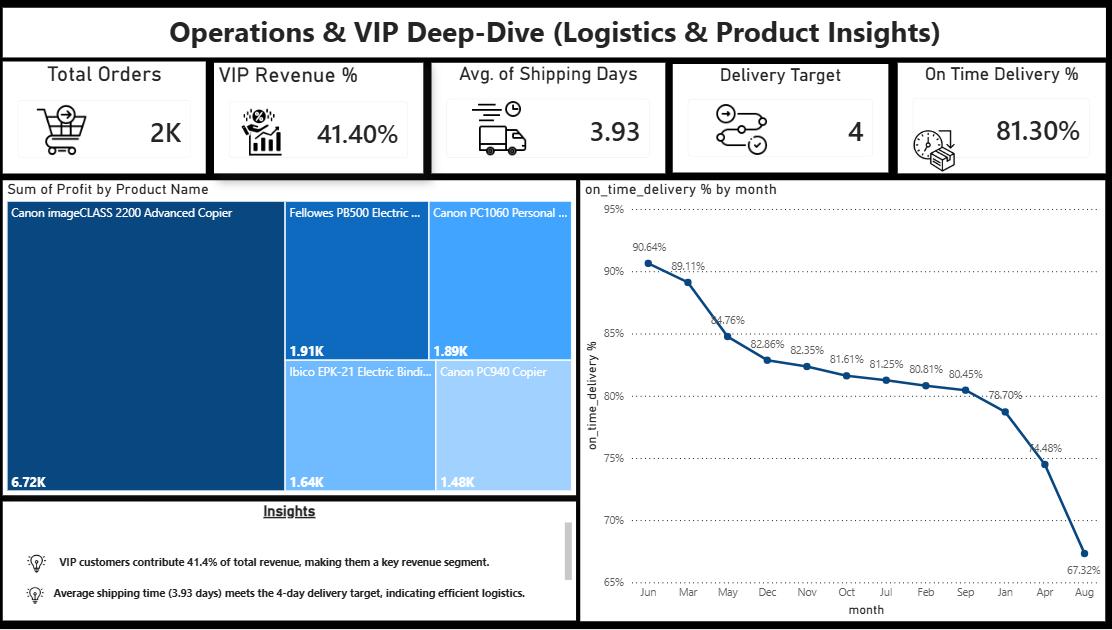

The page's visual inventory and layout, read from the dashboard file:
{"tool":"powerbi","page":{"name":"Page 3","canvas":[1280,720],"ordinal":2},"visuals":[{"type":"textbox","box":[9.7,9.7,1260.5,57],"z":0},{"type":"treemap","fields":{"Group":["walmart.Product Name"],"Values":["Sum(walmart.Profit)"]},"box":[9.7,207.3,655.3,360.3],"z":1000},{"type":"cardVisual","title":"Total Orders","fields":{"Data":["walmart.Total Orders"]},"box":[9.7,71,232.3,128],"z":2000},{"type":"cardVisual","title":"On Time Delivery %","fields":{"Data":["walmart.on_time_delivery %"]},"box":[1032.3,72.3,237.9,126.6],"z":3000},{"type":"cardVisual","title":"Avg. of Shipping Days","fields":{"Data":["Avg(walmart.shipping days)"]},"box":[499.5,72.3,267.1,126.6],"z":4000},{"type":"cardVisual","title":"Delivery Target","fields":{"Data":["walmart.Delivery Target"]},"box":[776.3,73.7,246.3,123.8],"z":5000},{"type":"lineChart","fields":{"Category":["walmart.month"],"Y":["walmart.on_time_delivery %"]},"box":[670.6,207.3,599.7,503.7],"z":6000},{"type":"cardVisual","title":"VIP Revenue %","fields":{"Data":["walmart.VIP Revenue %"]},"box":[251.8,72.3,239.3,126.6],"z":7000},{"type":"image","box":[260.2,123.8,91.8,55.7],"z":8000},{"type":"image","box":[523.1,115.5,108.5,64],"z":9000},{"type":"image","box":[1043.5,150.3,62.6,47.3],"z":10000},{"type":"image","box":[805.6,116.9,97.4,64],"z":11000},{"type":"image","box":[9.7,118.3,135,62.6],"z":12000},{"type":"textbox","title":"Insights","box":[9.7,574.6,655.3,136.3],"z":13000},{"type":"image","box":[34.8,634.4,29.2,22.3],"z":15000},{"type":"image","box":[36.2,672,22.3,20.9],"z":16000}]}

Visuals, with their boxes in screenshot pixels (x1, y1, x2, y2), scaled from the page's 1280x720 canvas onto the 1112x630 screenshot:
textbox: (8, 8, 1103, 58)
treemap - walmart.Product Name x Sum(walmart.Profit): (8, 181, 578, 497)
"Total Orders" cardVisual: (8, 62, 210, 174)
"On Time Delivery %" cardVisual: (897, 63, 1103, 174)
"Avg. of Shipping Days" cardVisual: (434, 63, 666, 174)
"Delivery Target" cardVisual: (674, 64, 888, 173)
lineChart - walmart.month x walmart.on_time_delivery %: (583, 181, 1104, 622)
"VIP Revenue %" cardVisual: (219, 63, 427, 174)
image: (226, 108, 306, 157)
image: (454, 101, 549, 157)
image: (907, 132, 961, 173)
image: (700, 102, 784, 158)
image: (8, 104, 126, 158)
"Insights" textbox: (8, 503, 578, 622)
image: (30, 555, 56, 575)
image: (31, 588, 51, 606)
